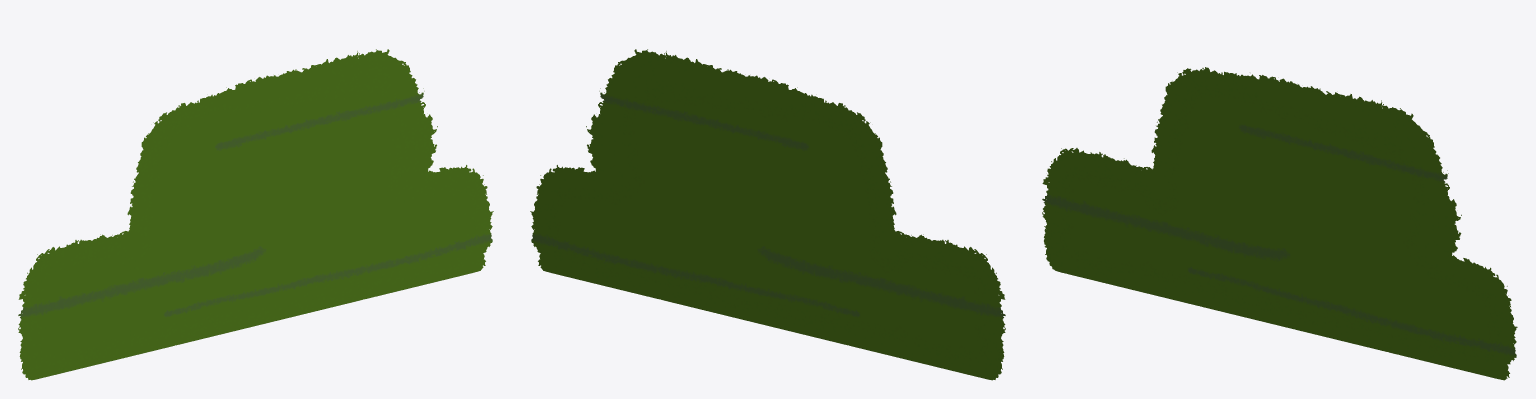
Rendered from 绿草大.fbx.
The picture shows the model from 3 angles, left to right: view 1: azimuth 30°, elevation 25°; view 2: azimuth 150°, elevation 25°; view 3: azimuth 330°, elevation 25°; orthographic projection.
Visible parts, largest first — view 1: 平面; view 2: 平面; view 3: 平面.
Boxes of the visible parts, left/top/right/bottom form: 平面: left=18, top=49, right=493, bottom=380; 平面: left=530, top=49, right=1005, bottom=380; 平面: left=1042, top=67, right=1517, bottom=380.
Bounding box in the file's own units: 380 × 190 × 5.38e-14.
1 material, 1 textured.
